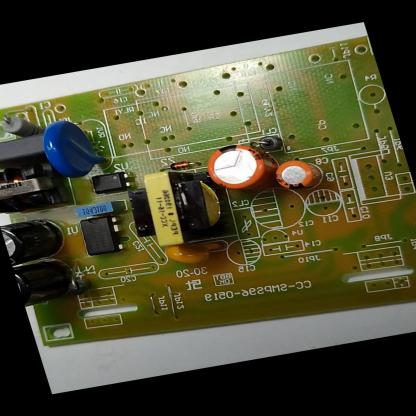Cap1: (201, 140, 274, 192)
Cap2: (270, 157, 316, 189)
Cap3: (0, 214, 68, 267)
Cap4: (12, 256, 74, 310)
MOSFET: (76, 213, 128, 256)
Mov: (38, 115, 113, 181)
Resistor: (0, 110, 41, 140)
Transformer: (120, 162, 231, 252), (0, 156, 67, 215)
